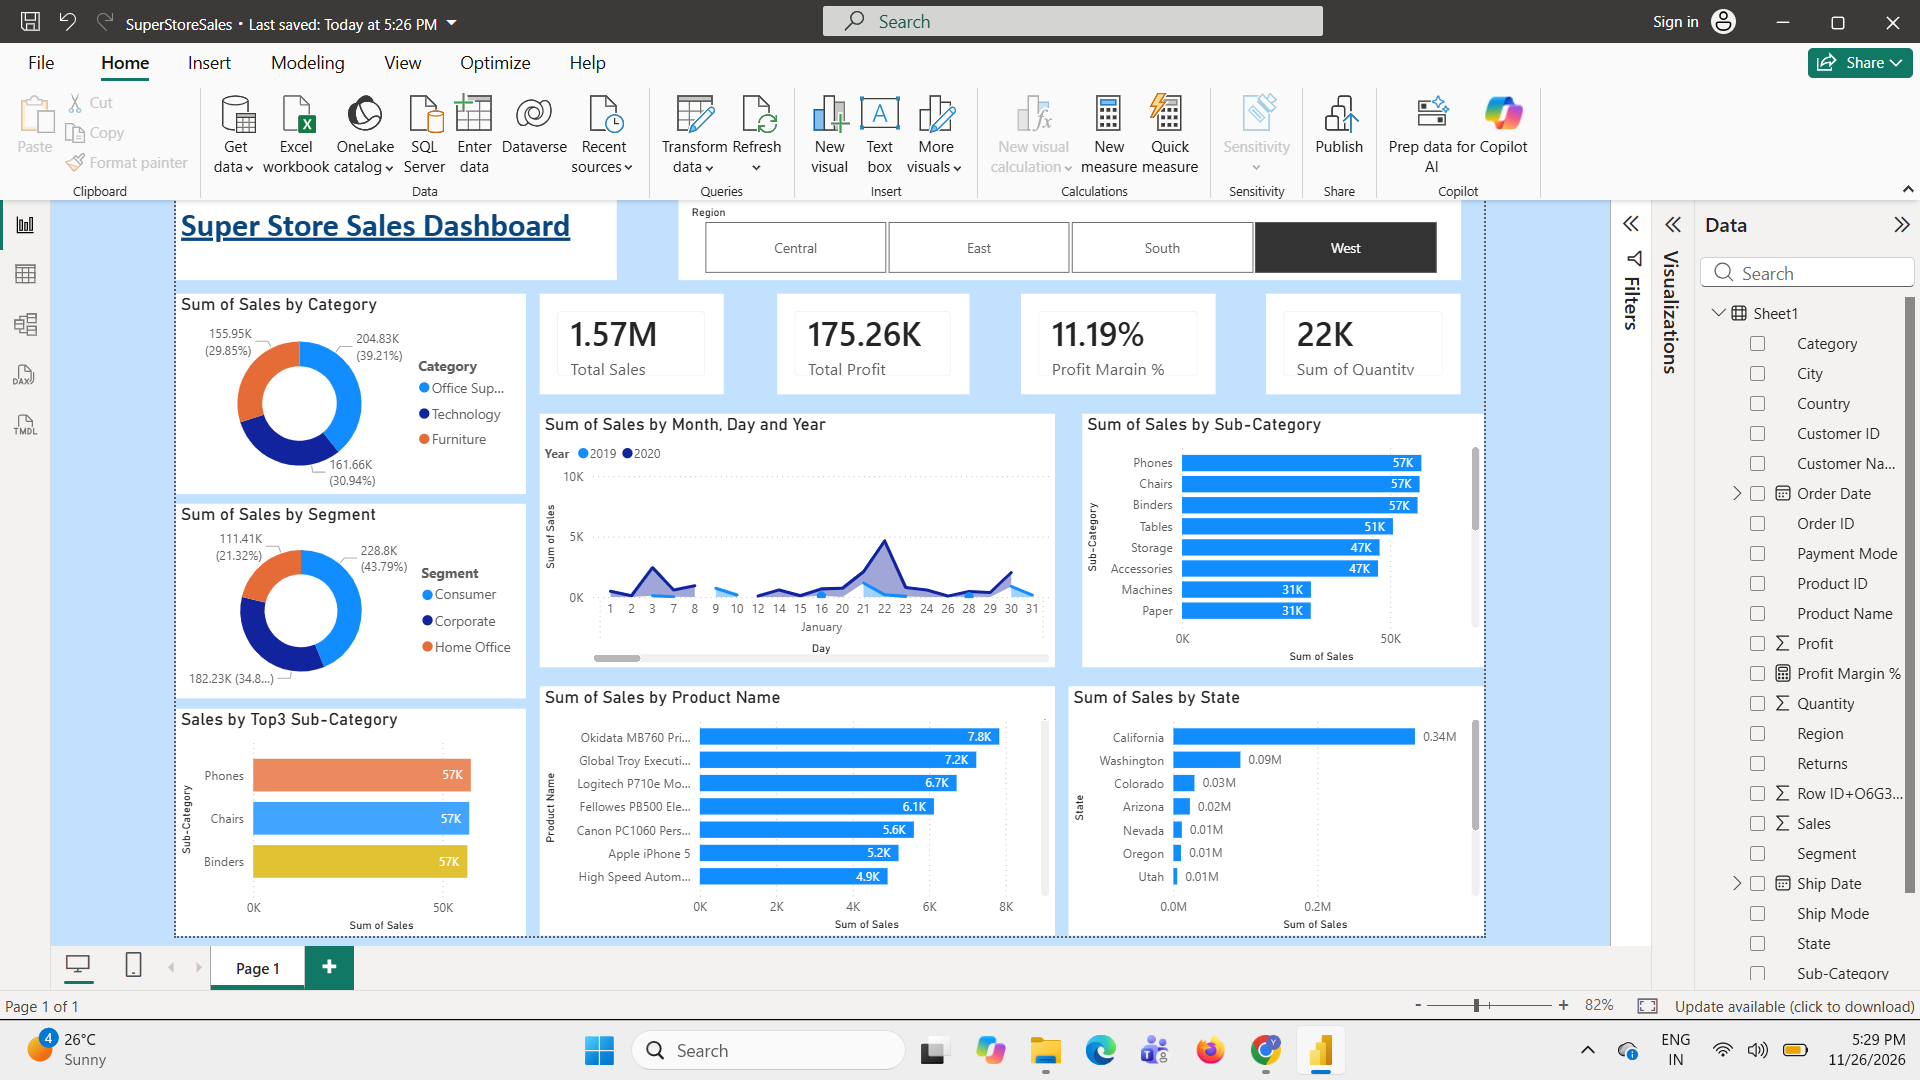

This screenshot's page, from the dashboard's own definition file:
{"tool":"powerbi","page":{"name":"Page 1","canvas":[1280,720],"ordinal":0},"visuals":[{"type":"barChart","fields":{"Y":["Sum(SuperStore_Sales_Dataset.Sales)"],"Category":["SuperStore_Sales_Dataset.Sub-Category"]},"box":[886.5,208.6,393.8,248.4],"z":0},{"type":"barChart","title":"Sales by Top3 Sub-Category","fields":{"Y":["Sum(SuperStore_Sales_Dataset.Sales)"],"Category":["SuperStore_Sales_Dataset.Sub-Category"]},"box":[0,497.5,342,223.1],"z":1000},{"type":"stackedAreaChart","fields":{"Y":["Sum(SuperStore_Sales_Dataset.Sales)"],"Series":["SuperStore_Sales_Dataset.Order Date.Variation.Date Hierarchy.Year"],"Category":["SuperStore_Sales_Dataset.Order Date.Variation.Date Hierarchy.Month","SuperStore_Sales_Dataset.Order Date.Variation.Date Hierarchy.Day"]},"box":[355.4,208.6,503.6,248.4],"z":2000},{"type":"donutChart","fields":{"Category":["SuperStore_Sales_Dataset.Segment"],"Y":["Sum(SuperStore_Sales_Dataset.Sales)"]},"box":[0,297.4,342,190.6],"z":3000},{"type":"slicer","fields":{"Values":["SuperStore_Sales_Dataset.Region"]},"box":[503.6,0,765.7,78.2],"z":4000},{"type":"textbox","box":[0,0,430.9,78.2],"z":5000},{"type":"barChart","fields":{"Y":["Sum(SuperStore_Sales_Dataset.Sales)"],"Category":["SuperStore_Sales_Dataset.State"]},"box":[872.7,476.2,407.5,244.3],"z":6000},{"type":"donutChart","fields":{"Y":["Sum(SuperStore_Sales_Dataset.Sales)"],"Category":["SuperStore_Sales_Dataset.Category"]},"box":[0,91.9,342,196],"z":7000},{"type":"barChart","fields":{"Y":["Sum(SuperStore_Sales_Dataset.Sales)"],"Category":["SuperStore_Sales_Dataset.Product Name"]},"box":[355.4,476.2,503.6,244.3],"z":8000},{"type":"cardVisual","fields":{"Data":["Sheet1.Total Sales"]},"box":[355.6,91.9,179.8,98.7],"z":9000},{"type":"cardVisual","fields":{"Data":["Sheet1.Total Profit"]},"box":[588.1,91.9,187.9,98.7],"z":10000},{"type":"cardVisual","fields":{"Data":["Sheet1.Profit Margin %"]},"box":[826,91.9,190.6,98.7],"z":11000},{"type":"cardVisual","fields":{"Data":["Sum(Sheet1.Quantity)"]},"box":[1066.7,91.9,190.6,98.7],"z":11001}]}

Visuals, with their boxes on the page's 1280x720 design canvas (x1, y1, x2, y2). These are canvas units, not pixel positions in the 1920x1080 screenshot, which may show the page scaled, cropped or inside an application window:
barChart - Sum(SuperStore_Sales_Dataset.Sales) x SuperStore_Sales_Dataset.Sub-Category: 886/209/1280/457
"Sales by Top3 Sub-Category" barChart: 0/498/342/721
stackedAreaChart - Sum(SuperStore_Sales_Dataset.Sales) x SuperStore_Sales_Dataset.Order Date.Variation.Date Hierarchy.Year: 355/209/859/457
donutChart - SuperStore_Sales_Dataset.Segment x Sum(SuperStore_Sales_Dataset.Sales): 0/297/342/488
slicer - SuperStore_Sales_Dataset.Region: 504/0/1269/78
textbox: 0/0/431/78
barChart - Sum(SuperStore_Sales_Dataset.Sales) x SuperStore_Sales_Dataset.State: 873/476/1280/720
donutChart - Sum(SuperStore_Sales_Dataset.Sales) x SuperStore_Sales_Dataset.Category: 0/92/342/288
barChart - Sum(SuperStore_Sales_Dataset.Sales) x SuperStore_Sales_Dataset.Product Name: 355/476/859/720
cardVisual - Sheet1.Total Sales: 356/92/535/191
cardVisual - Sheet1.Total Profit: 588/92/776/191
cardVisual - Sheet1.Profit Margin %: 826/92/1017/191
cardVisual - Sum(Sheet1.Quantity): 1067/92/1257/191
